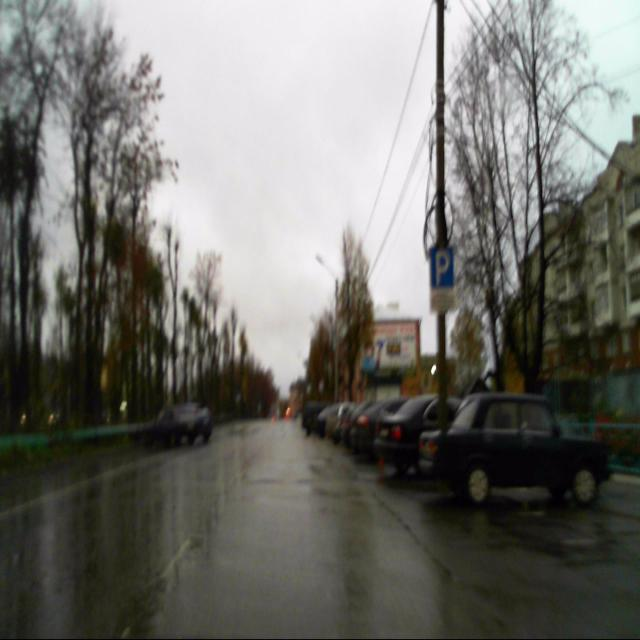road sign: (430, 248, 454, 289)
